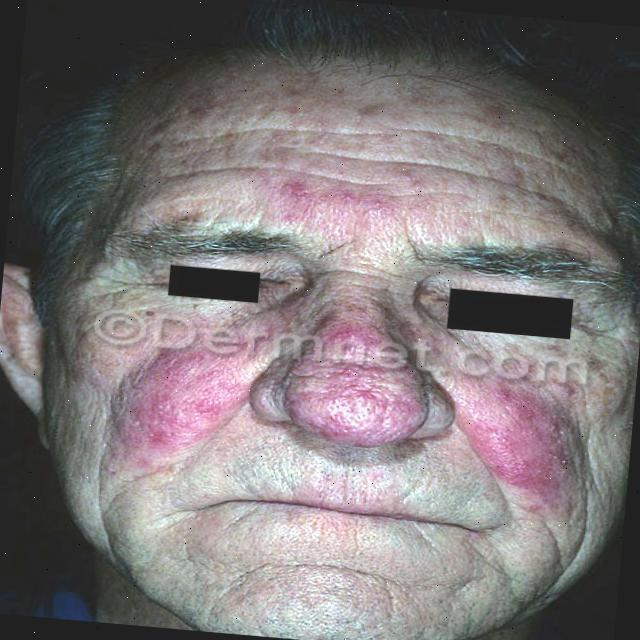skinredness: (72, 324, 572, 550)
